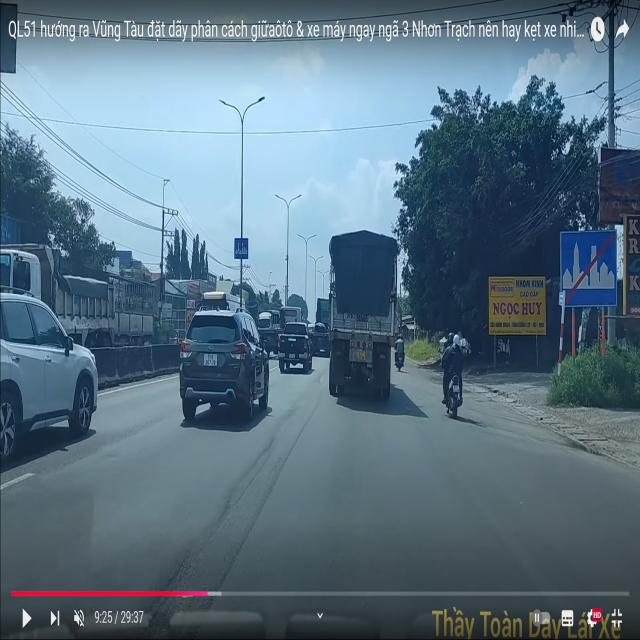Bien hieu lenh het khu dong dan cu: (558, 225, 620, 310)
